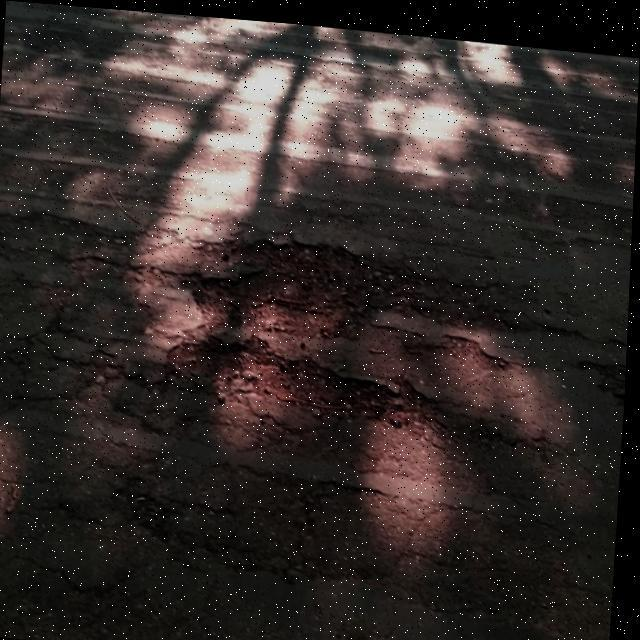pothole: (165, 214, 551, 363), (168, 329, 498, 441)
